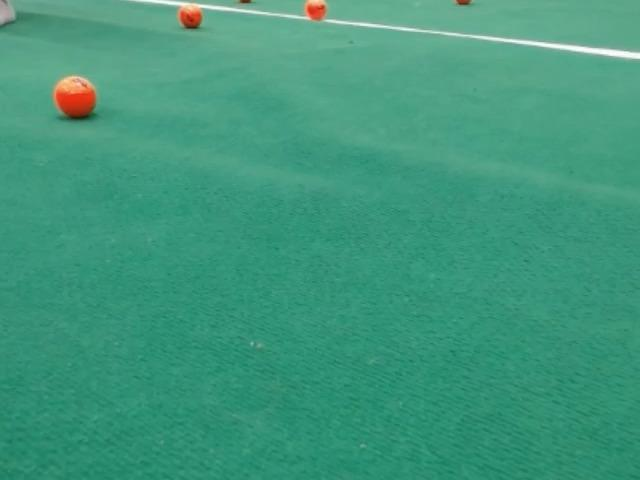Ball: (53, 76, 96, 118), (178, 4, 202, 28), (304, 0, 328, 22)
